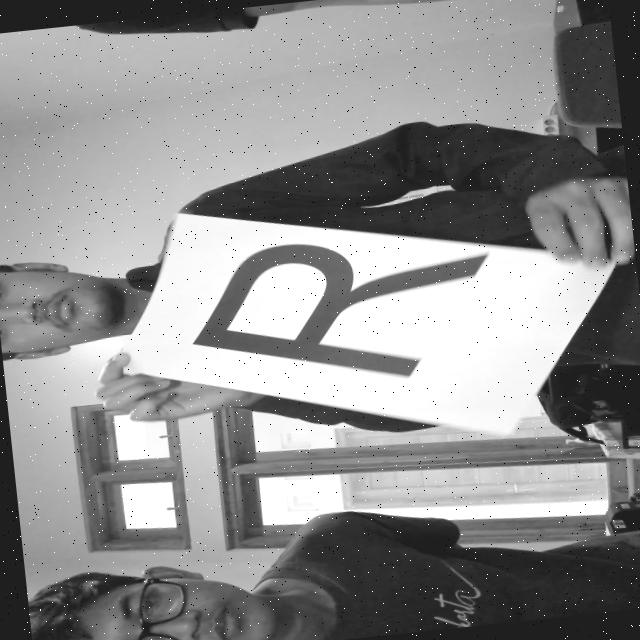r: (172, 210, 509, 401)
